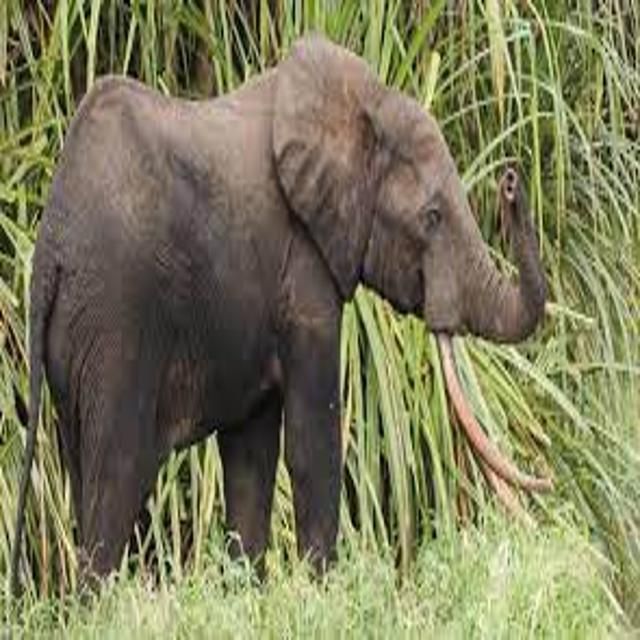Elephant: (22, 40, 574, 593)
